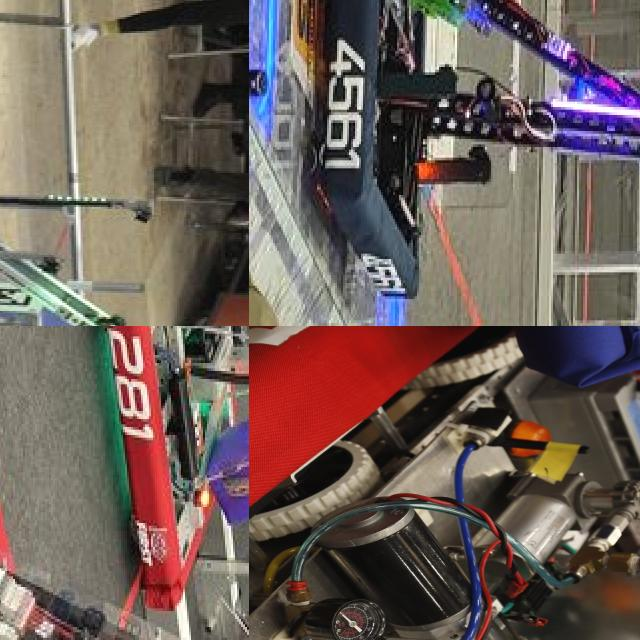FRC-Robots: (249, 326, 640, 640), (288, 0, 640, 326), (0, 89, 201, 326), (118, 326, 249, 609)
